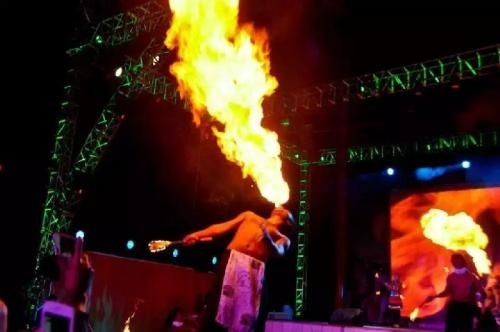fire: (162, 0, 289, 201), (418, 207, 494, 275)
